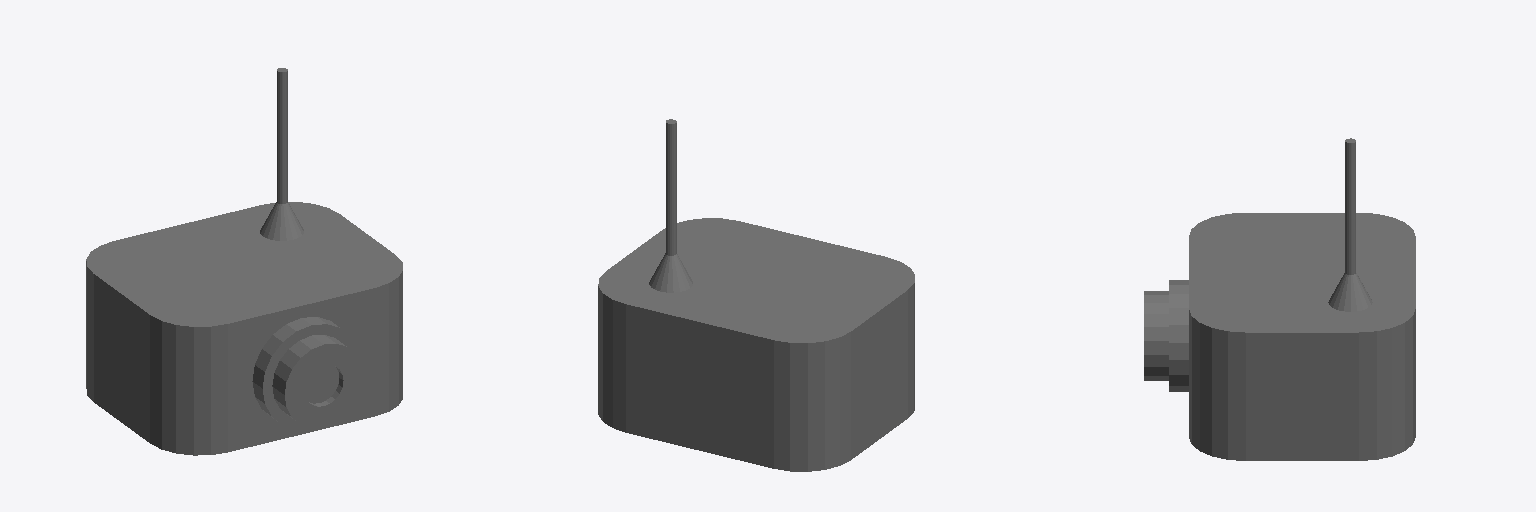
The model's file is robotHead_med.obj.
The picture shows the model from 3 angles: view 1: azimuth 30°, elevation 25°; view 2: azimuth 150°, elevation 25°; view 3: azimuth 270°, elevation 25°; orthographic projection.
Parts seen in each view (by area): view 1: robotHead_med:pCube3; view 2: robotHead_med:pCube3; view 3: robotHead_med:pCube3.
Boxes of the visible parts, x1,y1,x2,y2 form: robotHead_med:pCube3: [86, 68, 402, 455]; robotHead_med:pCube3: [598, 119, 914, 471]; robotHead_med:pCube3: [1144, 138, 1415, 460].
Bounding box in the file's own units: 1 × 1.13 × 0.9573.